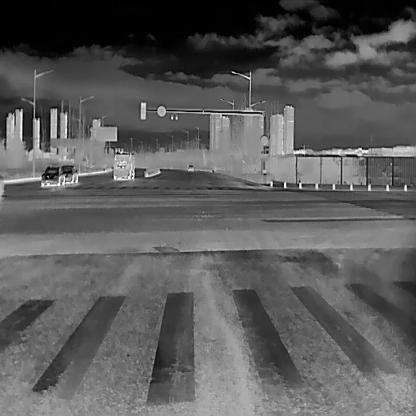car: (113, 151, 135, 180), (40, 165, 65, 187), (61, 163, 78, 183), (186, 163, 193, 171)
light: (138, 101, 147, 124)
sign: (154, 104, 171, 117)
